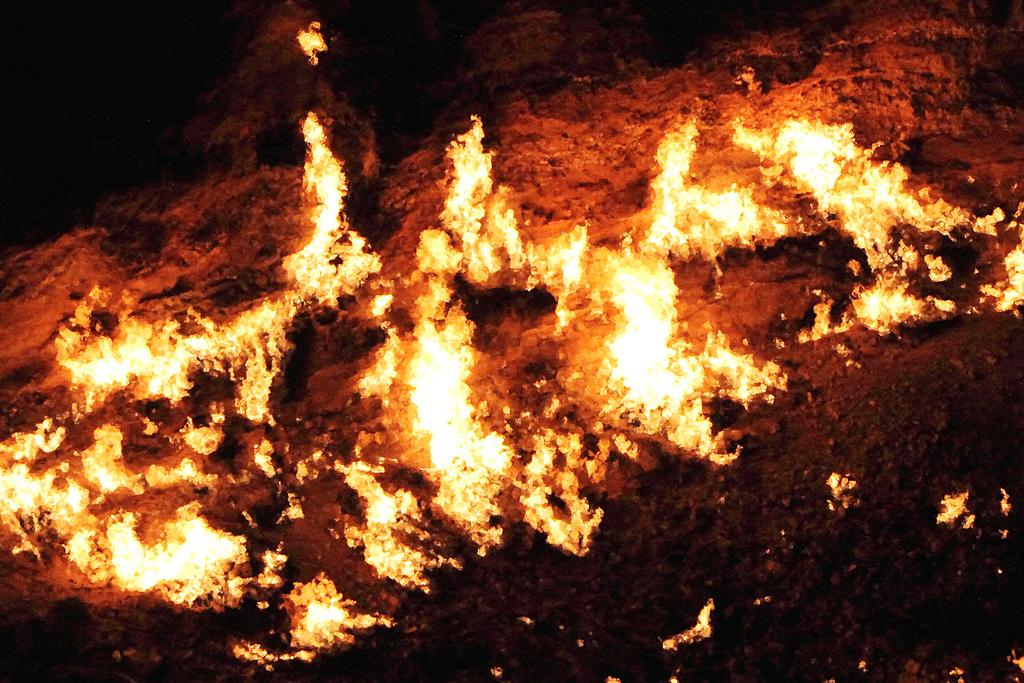fire: (590, 267, 703, 412), (407, 335, 493, 488), (110, 502, 233, 597), (75, 318, 193, 400), (2, 453, 95, 540), (777, 122, 872, 198), (635, 192, 758, 250)
